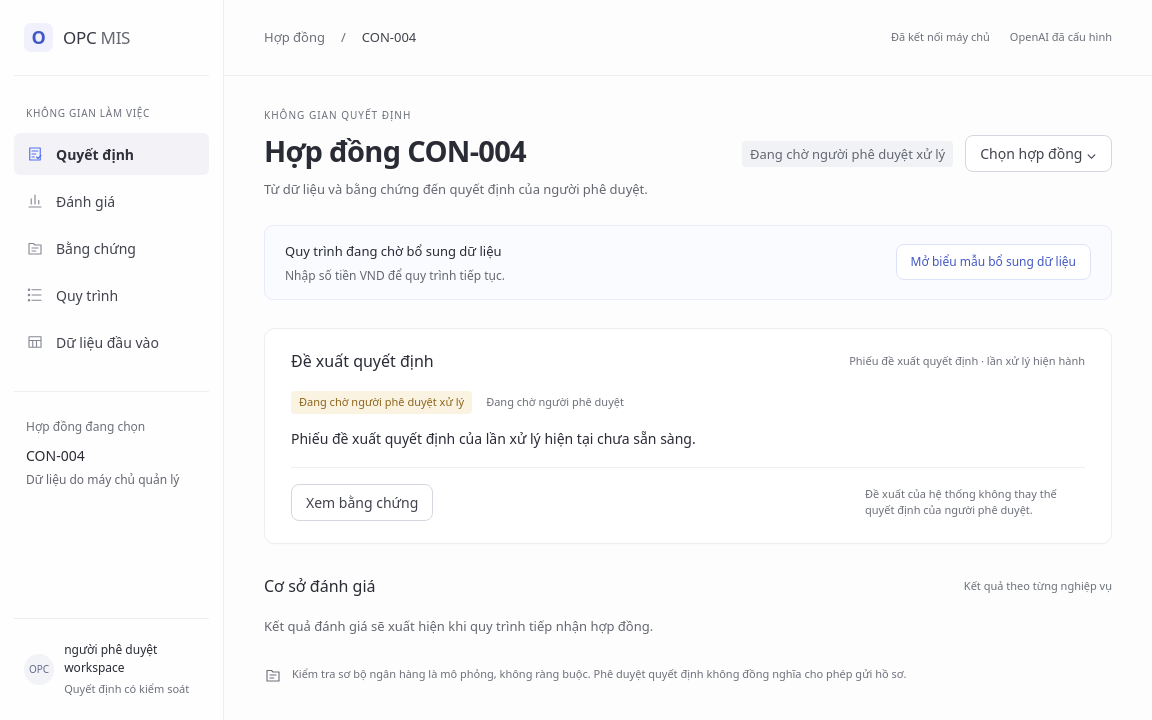
Scenario: Người phê duyệt interaction popups › keeps the dashboard visible until người phê duyệt opens the missing-data form
Expected: the dialog "Bổ sung số tiền yêu cầu" is not shown
What coordinates should you click on to do the following:
click the button "Mở biểu mẫu bổ sung dữ liệu"
I would click on:
 (993, 262)
Its box is top-left (896, 244), bottom-right (1091, 280).
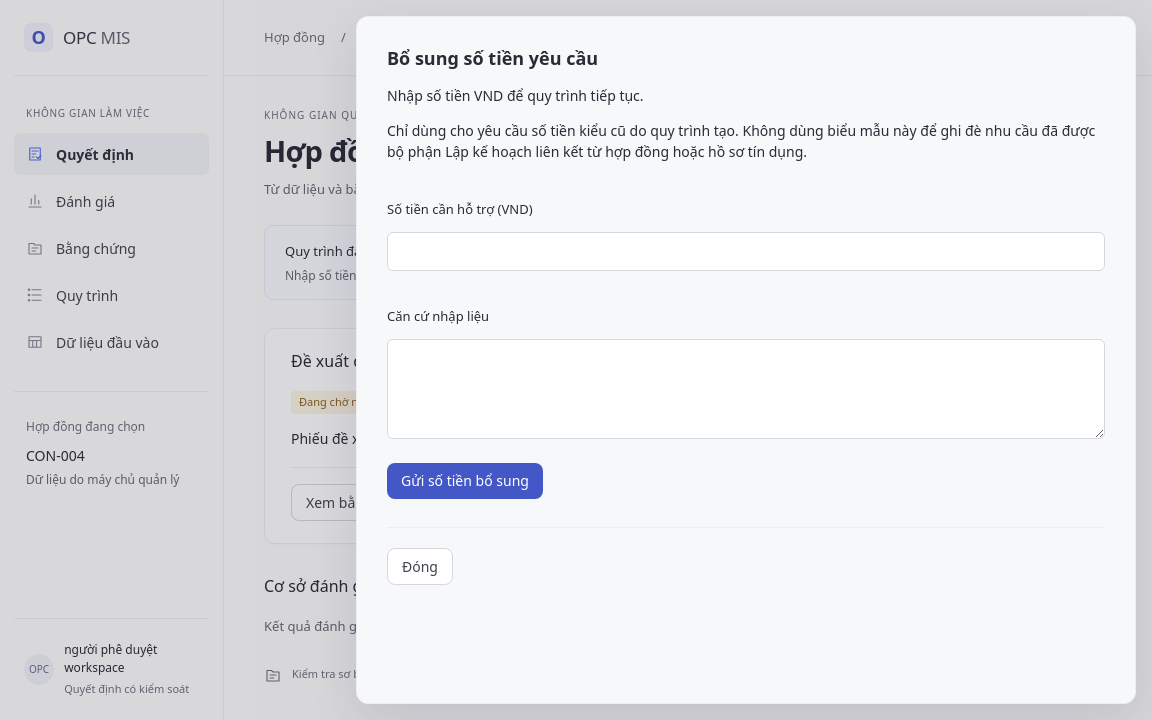
Now the dialog "Bổ sung số tiền yêu cầu" is shown
